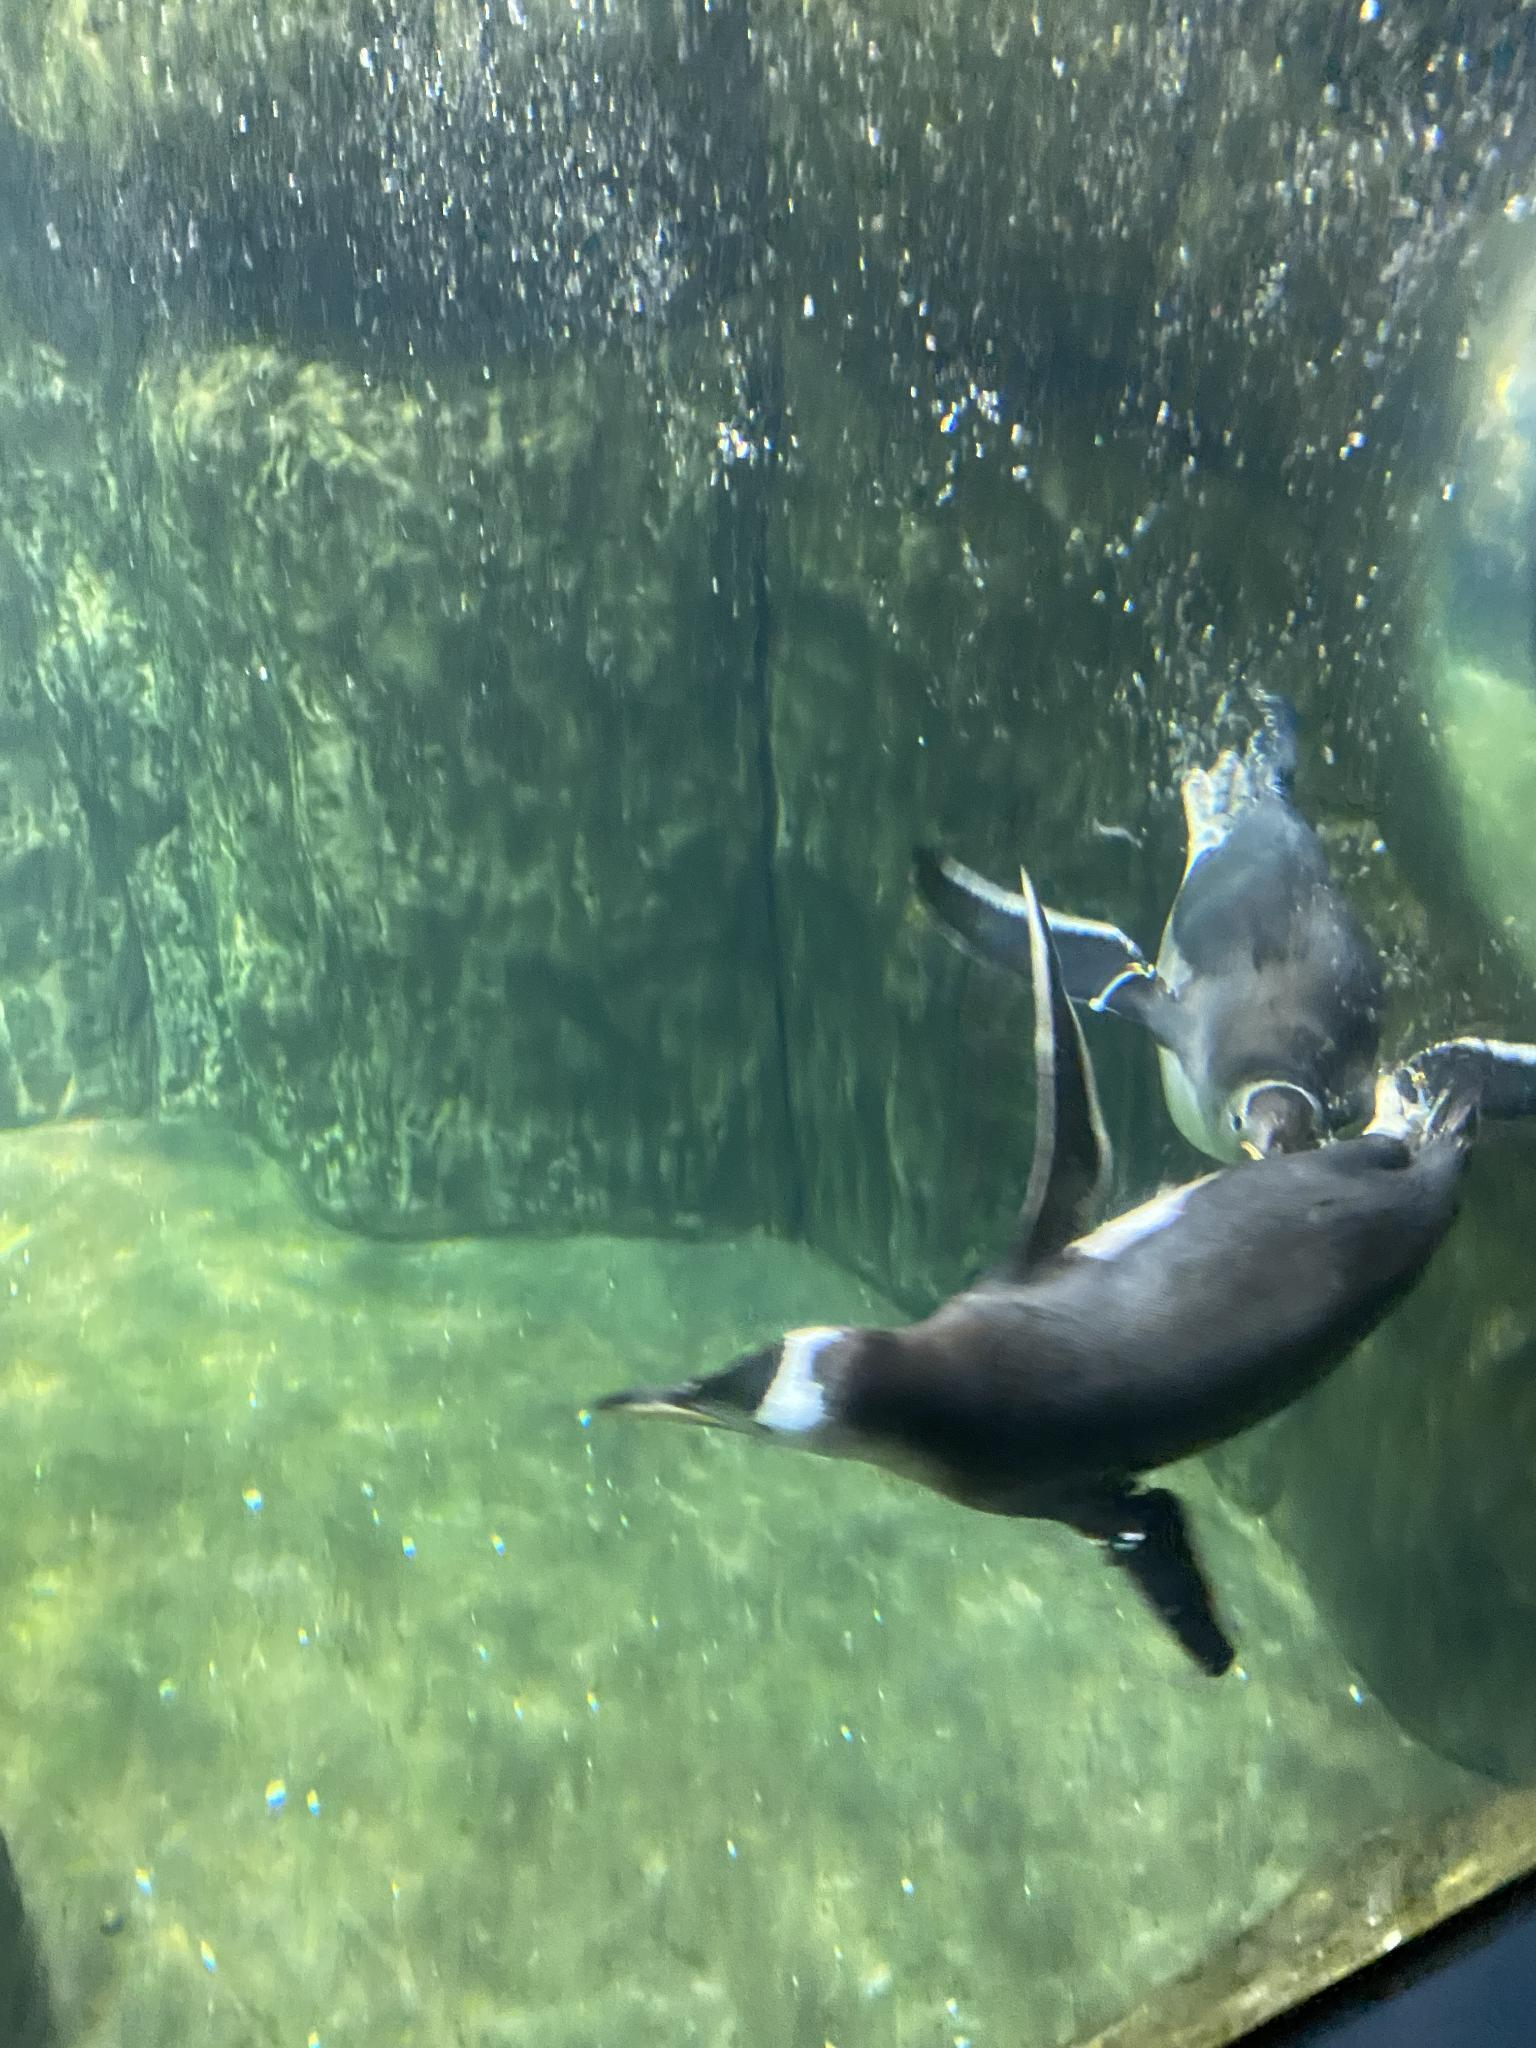penguin: (595, 863, 1534, 1680), (916, 697, 1400, 1179)
